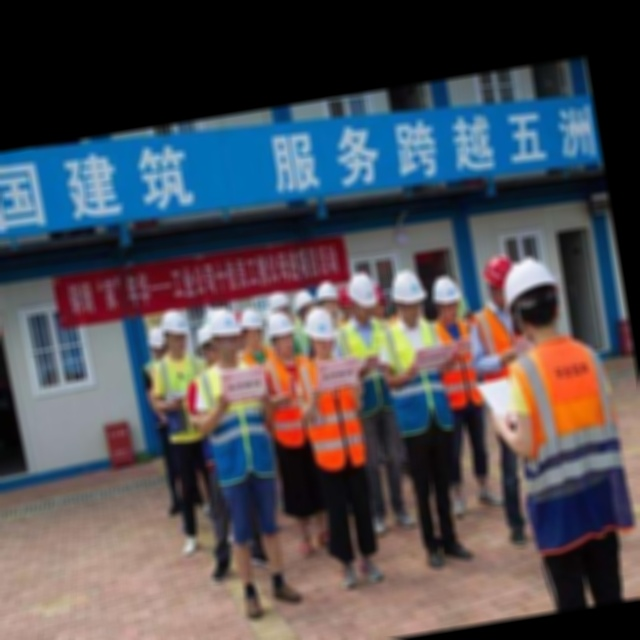Con_Casco: (499, 255, 569, 339), (302, 305, 342, 356)
Con_Chaleco: (504, 339, 640, 560), (192, 356, 278, 489), (378, 316, 460, 442), (299, 355, 370, 475)
